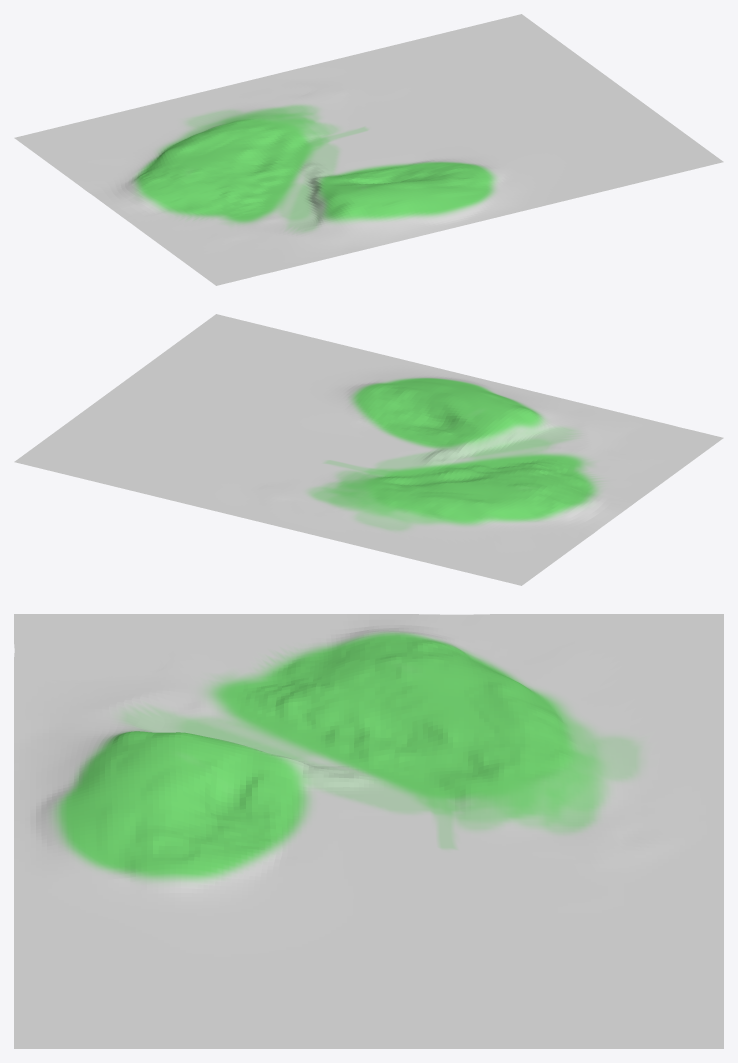
The model's file is Landscape.gltf.
3 views of the same model, one above another, from view 1: azimuth 30°, elevation 25°; view 2: azimuth 150°, elevation 25°; view 3: azimuth 270°, elevation 25° (orthographic). The views are drawn at different scales.
Visible parts, largest first — view 1: Plane; view 2: Plane; view 3: Plane.
Boxes of the visible parts, x1,y1,x2,y2 form: Plane: (14,14,723,285); Plane: (14,314,723,585); Plane: (14,614,723,1048).
Size of the model in its own units: 600 by 17.88 by 414.
